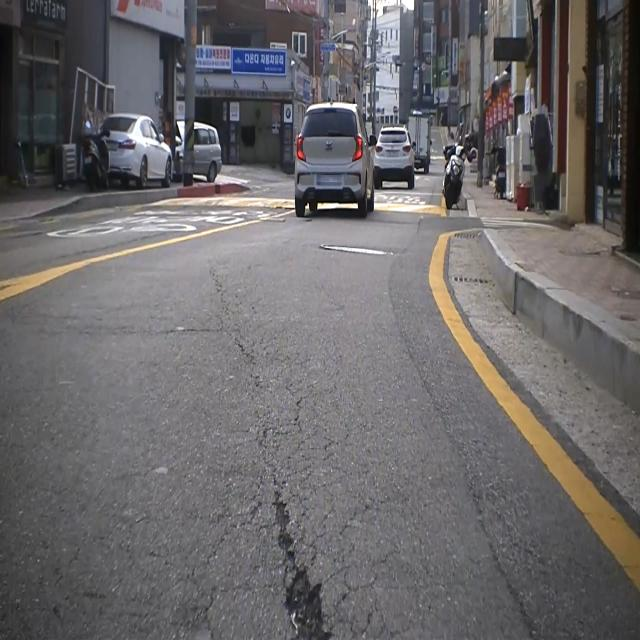Pothole: (262, 482, 337, 640)
